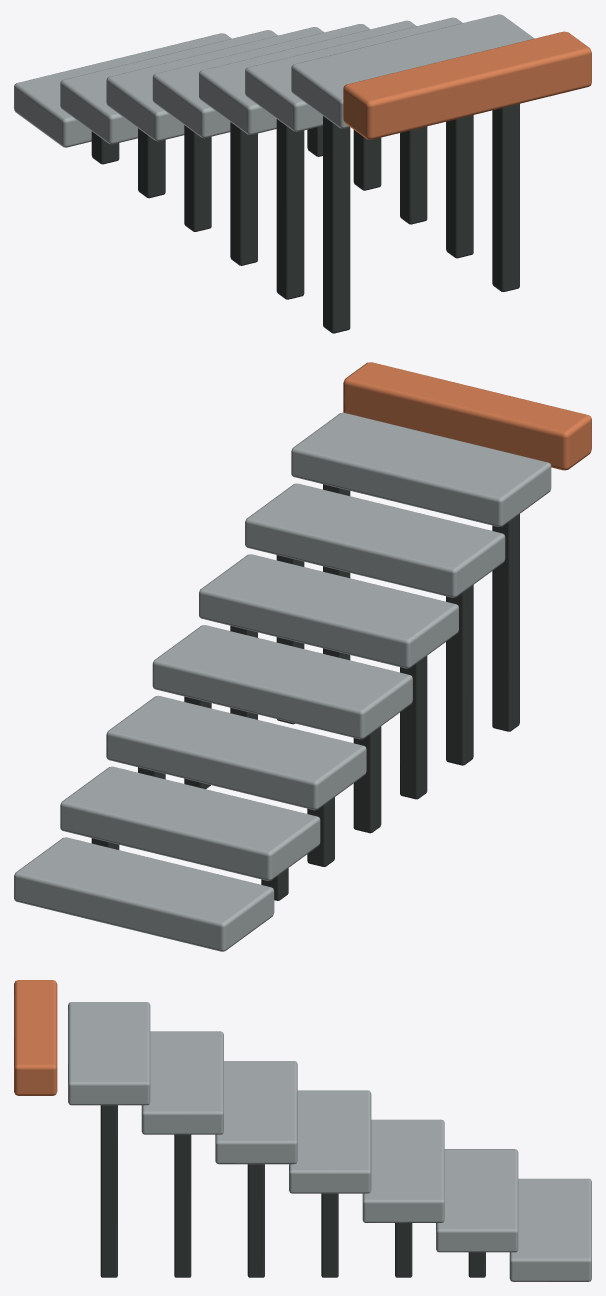
The model's file is survivor-vehicle-maintenance-vehicle-service-ramp-65e15ee0__26683.glb.
The picture shows the model from 3 angles, top to bottom: view 1: azimuth 30°, elevation 25°; view 2: azimuth 150°, elevation 25°; view 3: azimuth 270°, elevation 25°; orthographic projection. The views are drawn at different scales.
Visible parts, largest first — view 1: vehicle-service-ramp; view 2: vehicle-service-ramp; view 3: vehicle-service-ramp.
Part boxes in pixels (box(x1,y1,x2,y2)): vehicle-service-ramp: box(14, 14, 591, 333); vehicle-service-ramp: box(14, 362, 591, 951); vehicle-service-ramp: box(14, 980, 591, 1281).
Bounding box in the file's own units: 0.48 × 0.56 × 1.33.
